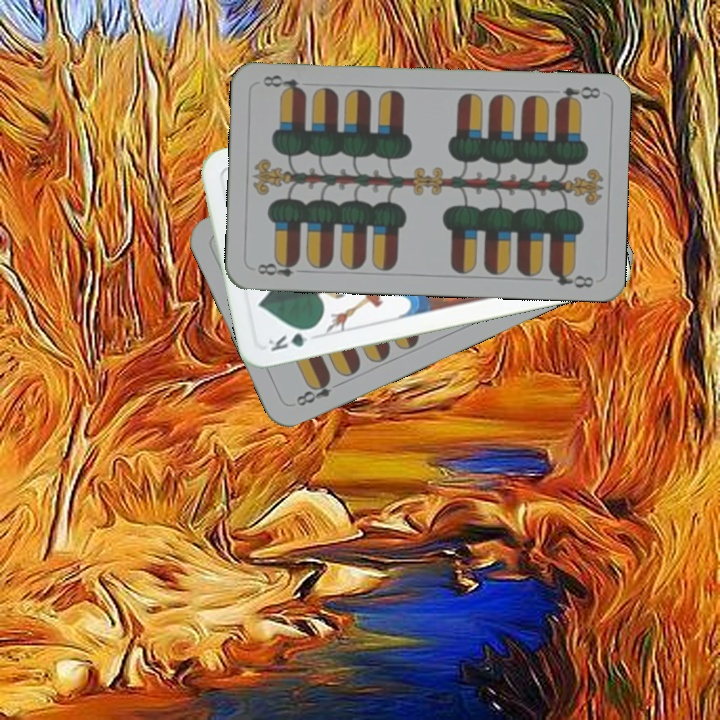E8: (292, 373, 345, 409), (253, 256, 309, 279), (552, 82, 604, 106)
GK: (264, 323, 319, 354)
